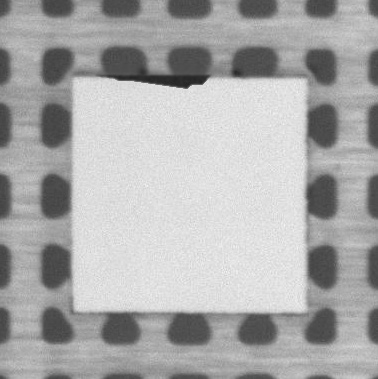DIE_BROKEN: (107, 69, 212, 89)
